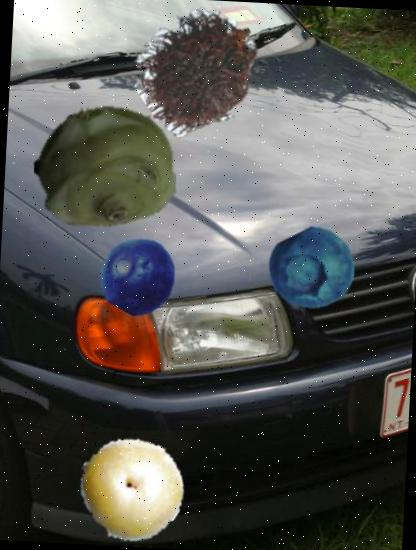Huckleberry: (268, 224, 358, 314), (99, 236, 180, 316)
Kohlrabi: (31, 92, 180, 241)
Maracuja: (76, 433, 187, 544)
Rambutan: (132, 1, 268, 137)
